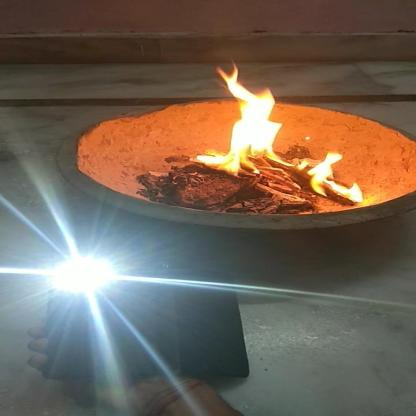fire: (184, 66, 369, 202)
